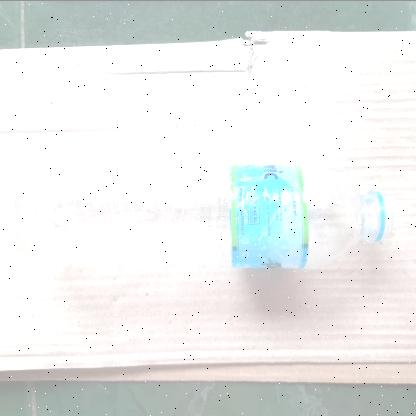Plastic Bottle: (4, 141, 394, 311)
